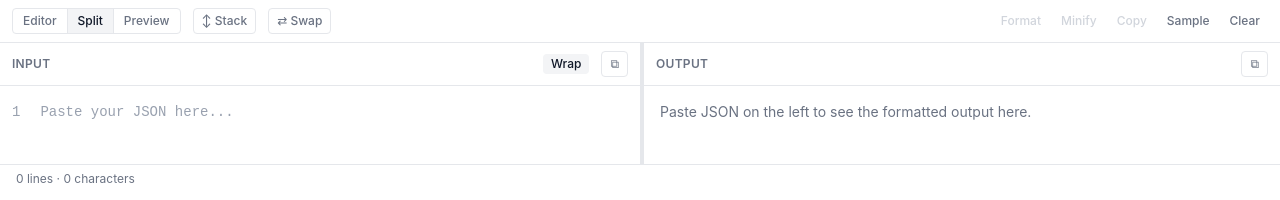
JsonParser › pop-out › does not hide a pane just from clicking pop-out when the popup is blocked
Click the button named "Open Output in a new window": (1255, 64) [1241,51,1268,77]
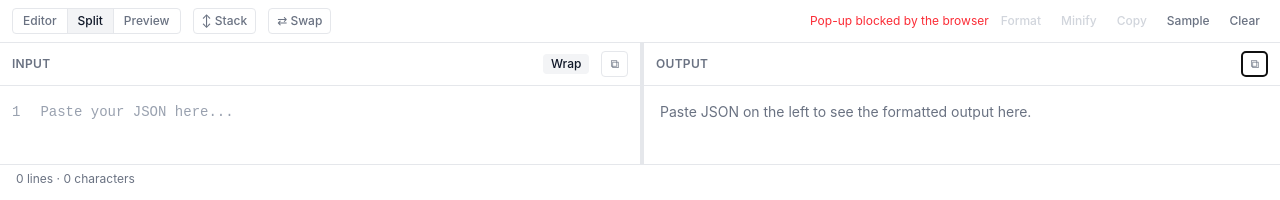
Expected: the text "Pop-up blocked by the browser" is shown, [810,13,989,29]
